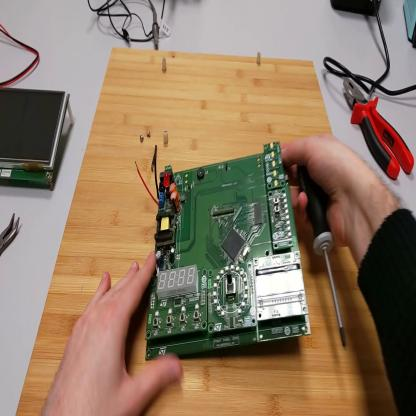hand: (47, 252, 181, 416), (284, 135, 362, 249)
low voltage board: (135, 140, 313, 363)
oscilloscope probe tip: (150, 2, 160, 50)
pliers: (343, 75, 415, 181), (1, 213, 19, 256)
screwdriver-: (299, 164, 348, 355)
welder base: (405, 3, 416, 48)
welder station: (332, 1, 382, 19)
working area: (18, 49, 399, 416)
